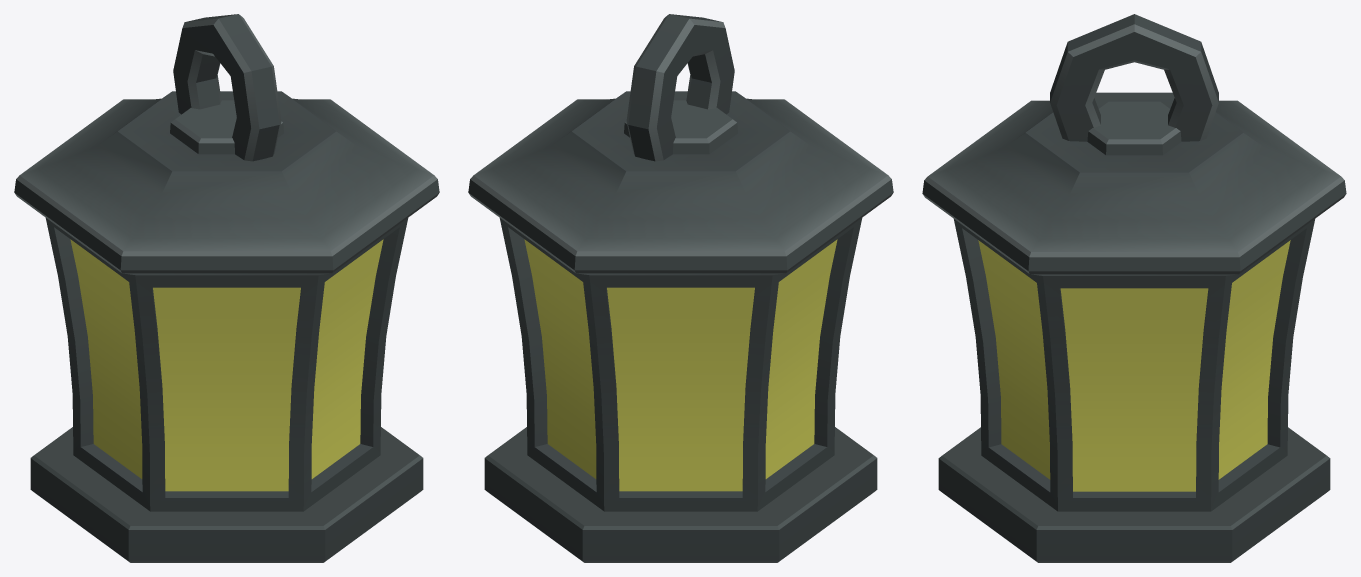
Rendered from Lamp-3-2.fbx.
The picture shows the model from 3 angles, left to right: view 1: azimuth 30°, elevation 25°; view 2: azimuth 150°, elevation 25°; view 3: azimuth 270°, elevation 25°; orthographic projection.
Parts seen in each view (by area): view 1: Lamp-3-2; view 2: Lamp-3-2; view 3: Lamp-3-2.
Part boxes in pixels (left/top/right/bottom): Lamp-3-2: left=14, top=14, right=439, bottom=562; Lamp-3-2: left=468, top=14, right=893, bottom=562; Lamp-3-2: left=922, top=14, right=1346, bottom=562.
Size of the model in its own units: 57.24 by 81.58 by 66.1.
